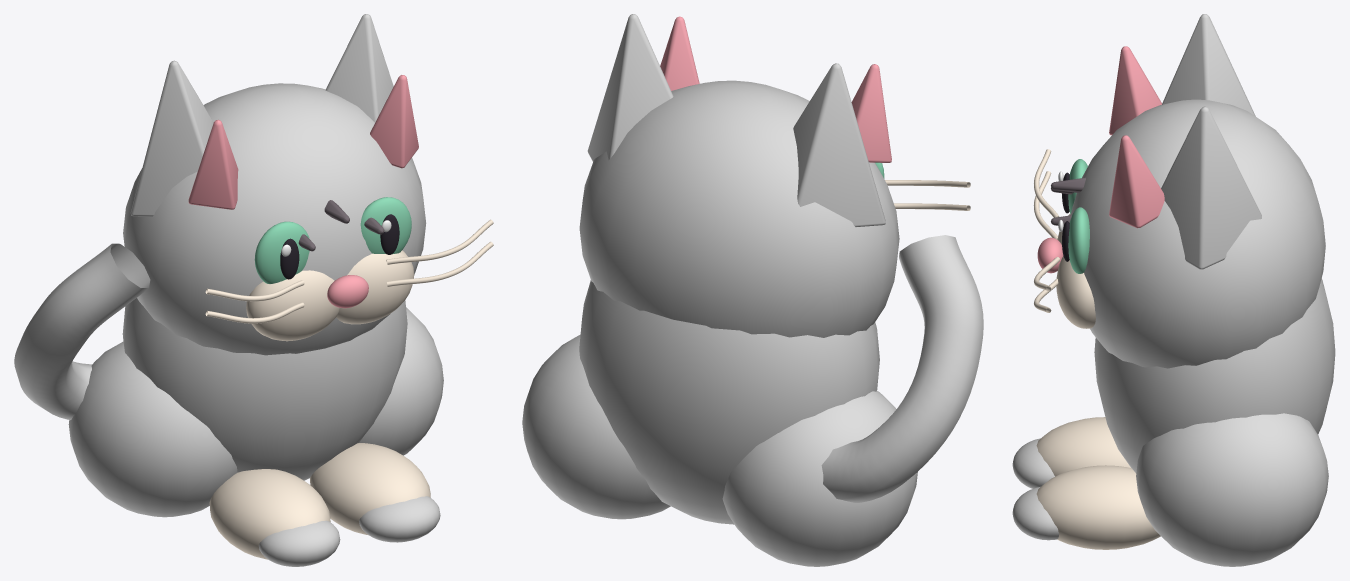
Rendered from boop-kitten.glb.
3 views of the same model, side by side, from view 1: azimuth 30°, elevation 25°; view 2: azimuth 150°, elevation 25°; view 3: azimuth 270°, elevation 25° (orthographic). The views are drawn at different scales.
Visible parts, largest first — view 1: Head, Body, Haunch, Tail, FrontPaw, Ear, FrontPaw.001, Haunch.001, Muzzle, Ear.001, Muzzle.001, InnerEar (+10 smaller); view 2: Head, Body, Haunch, Tail, Haunch.001, Ear, Ear.001, InnerEar, InnerEar.001; view 3: Head, Haunch.001, Body, Ear.001, FrontPaw.001, Ear, FrontPaw, InnerEar.001, InnerEar, Muzzle.001, Toe.001, Toe (+3 smaller).
Boxes of the visible parts, x1,y1,x2,y2 form: Head: [123, 83, 426, 355]; Body: [122, 298, 407, 480]; Haunch: [68, 342, 237, 517]; Tail: [14, 243, 150, 419]; FrontPaw: [209, 469, 330, 559]; Ear: [130, 60, 211, 216]; FrontPaw.001: [310, 443, 430, 534]; Haunch.001: [359, 307, 443, 455]; Muzzle: [246, 270, 339, 341]; Ear.001: [325, 14, 393, 122]; Muzzle.001: [336, 250, 414, 324]; InnerEar: [188, 119, 238, 209]; Head: [579, 80, 899, 337]; Body: [579, 280, 879, 524]; Haunch: [722, 391, 917, 566]; Tail: [821, 235, 983, 502]; Haunch.001: [522, 334, 670, 519]; Ear: [793, 63, 885, 226]; Ear.001: [587, 14, 673, 161]; InnerEar: [851, 64, 891, 162]; InnerEar.001: [660, 16, 699, 90]; Head: [1070, 99, 1325, 368]; Haunch.001: [1136, 413, 1328, 566]; Body: [1094, 278, 1335, 473]; Ear.001: [1161, 106, 1261, 269]; FrontPaw.001: [1036, 465, 1160, 549]; Ear: [1162, 14, 1255, 116]; FrontPaw: [1036, 417, 1130, 476]; InnerEar.001: [1109, 135, 1164, 228]; InnerEar: [1109, 46, 1161, 135]; Muzzle.001: [1056, 256, 1095, 328]; Toe.001: [1012, 486, 1059, 540]; Toe: [1012, 438, 1054, 488].
Bounding box in the file's own units: 1.41 × 1.53 × 0.9755.
